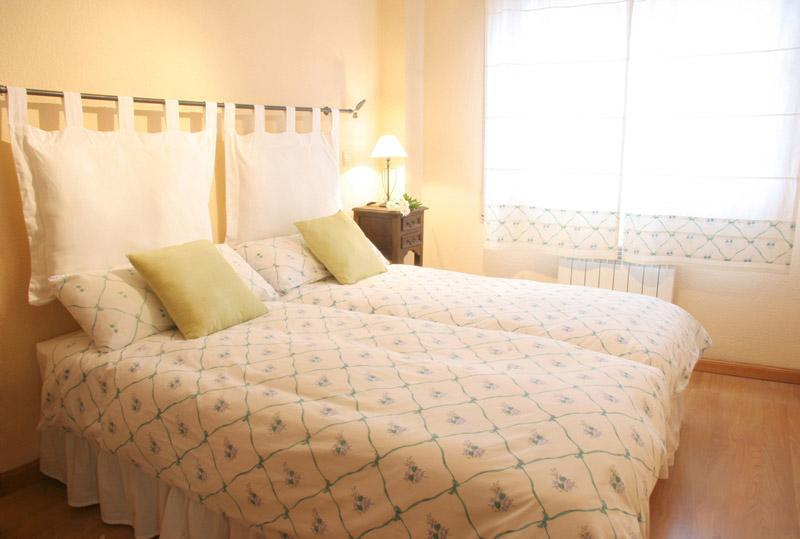Cama: (63, 265, 674, 526), (242, 187, 713, 392)
Ventana: (488, 2, 790, 269)
